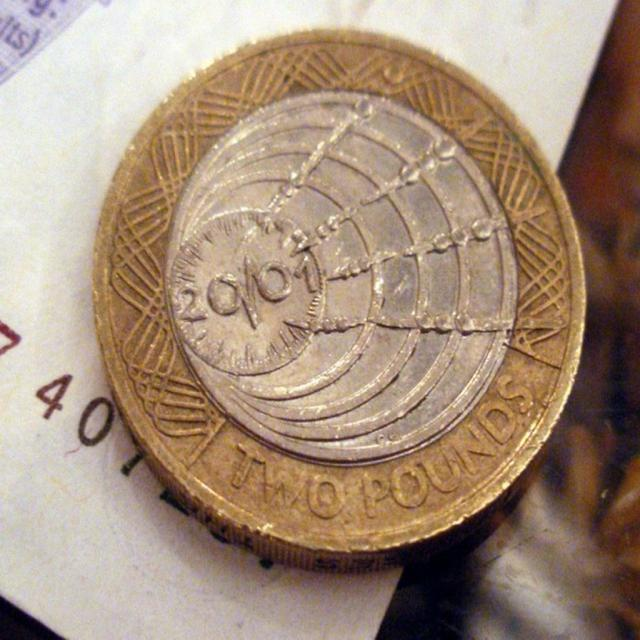Coin: (86, 21, 590, 567)
